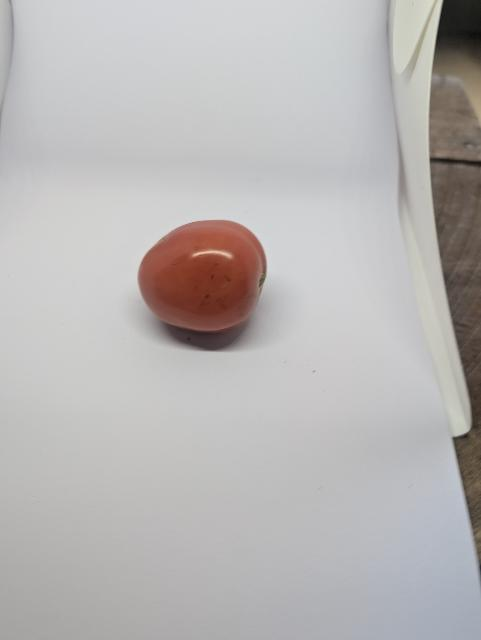red: (130, 210, 287, 340)
